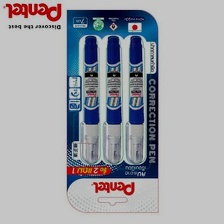book: (64, 7, 161, 215)
correction_fluid: (99, 34, 123, 165), (78, 33, 101, 165), (123, 34, 145, 165)
